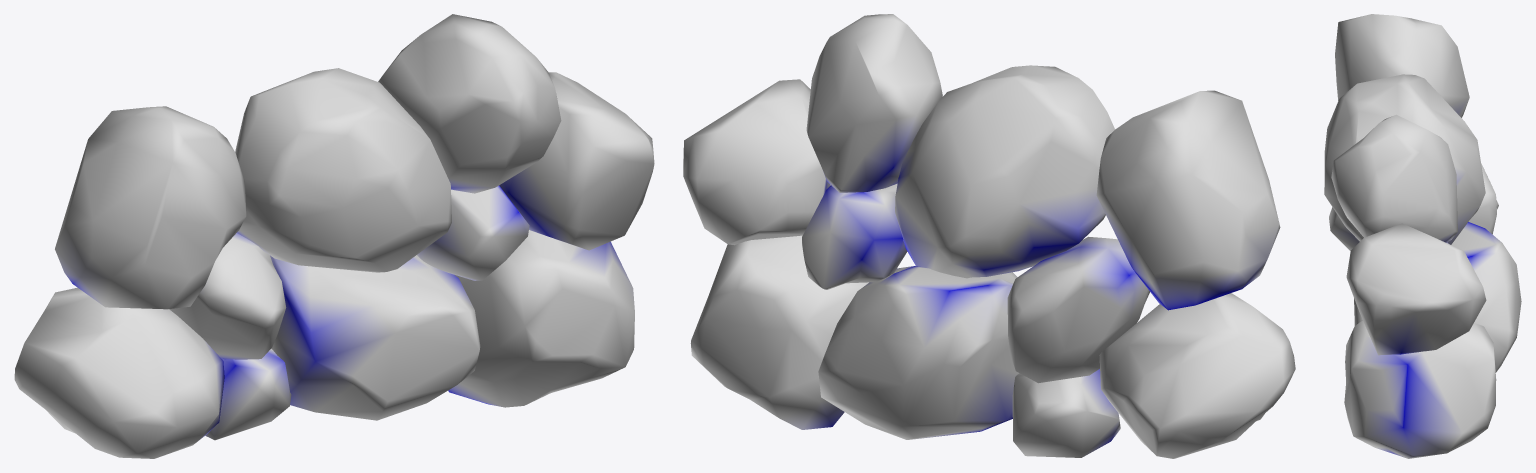
Rendered from stone_stack2.fbx.
3 renders of one model, left to right at view 1: azimuth 30°, elevation 25°; view 2: azimuth 150°, elevation 25°; view 3: azimuth 270°, elevation 25°, orthographic. The views are drawn at different scales.
Parts seen in each view (by area): view 1: Stones_low; view 2: Stones_low; view 3: Stones_low.
Boxes of the visible parts, x1=… form: Stones_low: x1=14, y1=14, x2=654, y2=458; Stones_low: x1=683, y1=14, x2=1295, y2=458; Stones_low: x1=1324, y1=14, x2=1521, y2=458.
Size of the model in its own units: 825 by 528 by 304.
